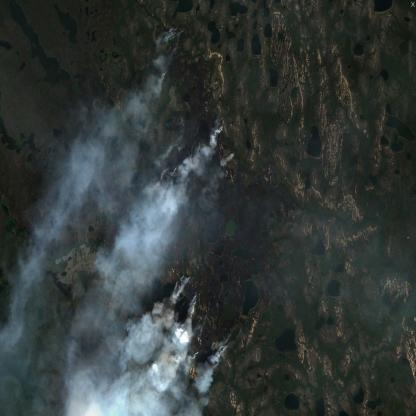fire: (150, 21, 235, 186), (147, 270, 238, 386)
